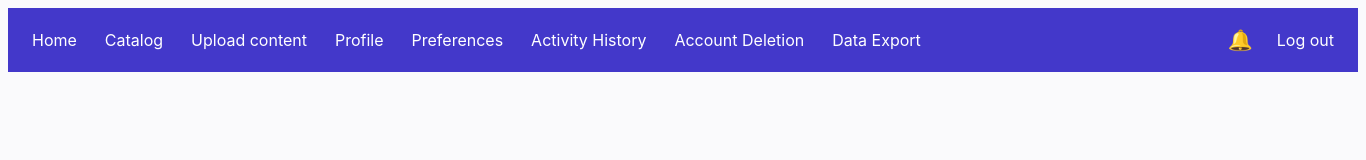
Test: AppHeader › shows an empty state when there are no notifications
What coordinates should you click on to do the following:
click the button named "notifications"
I would click on:
 (1240, 40)
Its box is top-left (1220, 20), bottom-right (1261, 60).
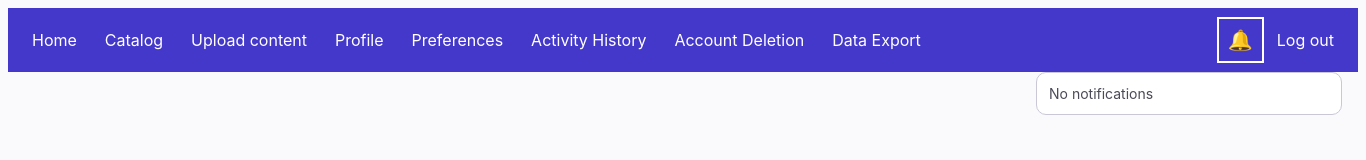
Expected: the text "No notifications" is shown, top-left (1049, 85), bottom-right (1153, 102)
